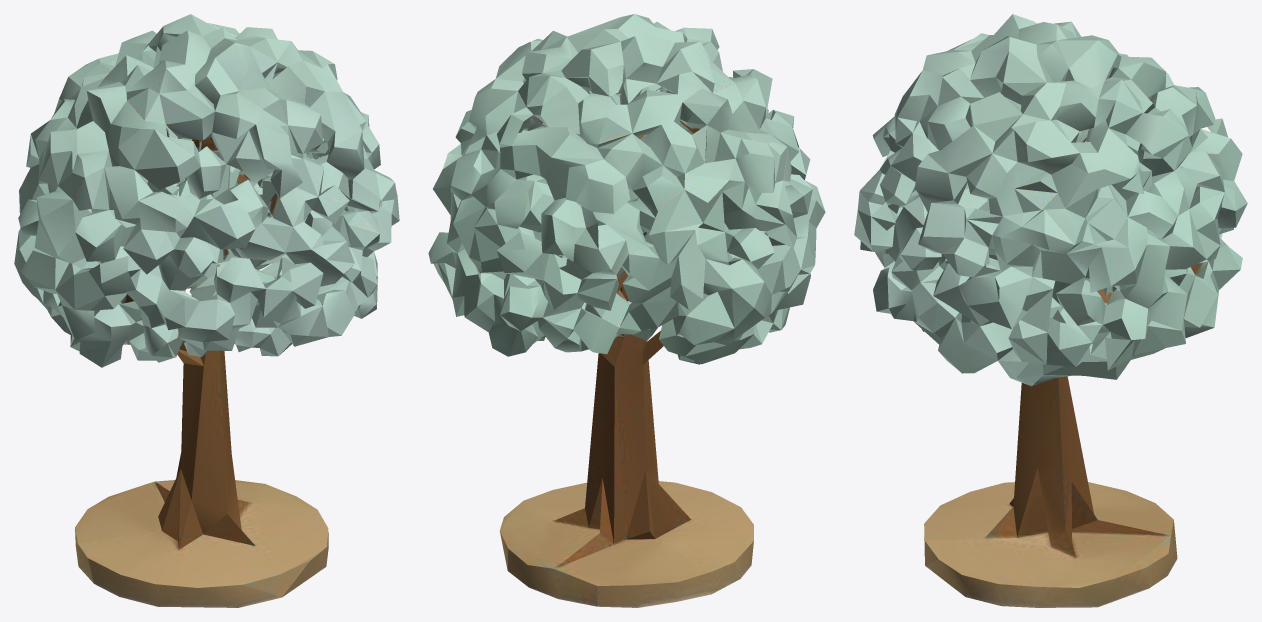
File: nat-oak.glb
3 renders of one model, left to right at view 1: azimuth 30°, elevation 25°; view 2: azimuth 150°, elevation 25°; view 3: azimuth 270°, elevation 25°, orthographic.
Size of the model in its own units: 1.29 by 1.9 by 1.28.
Materials: 1 (1 with a texture image).
